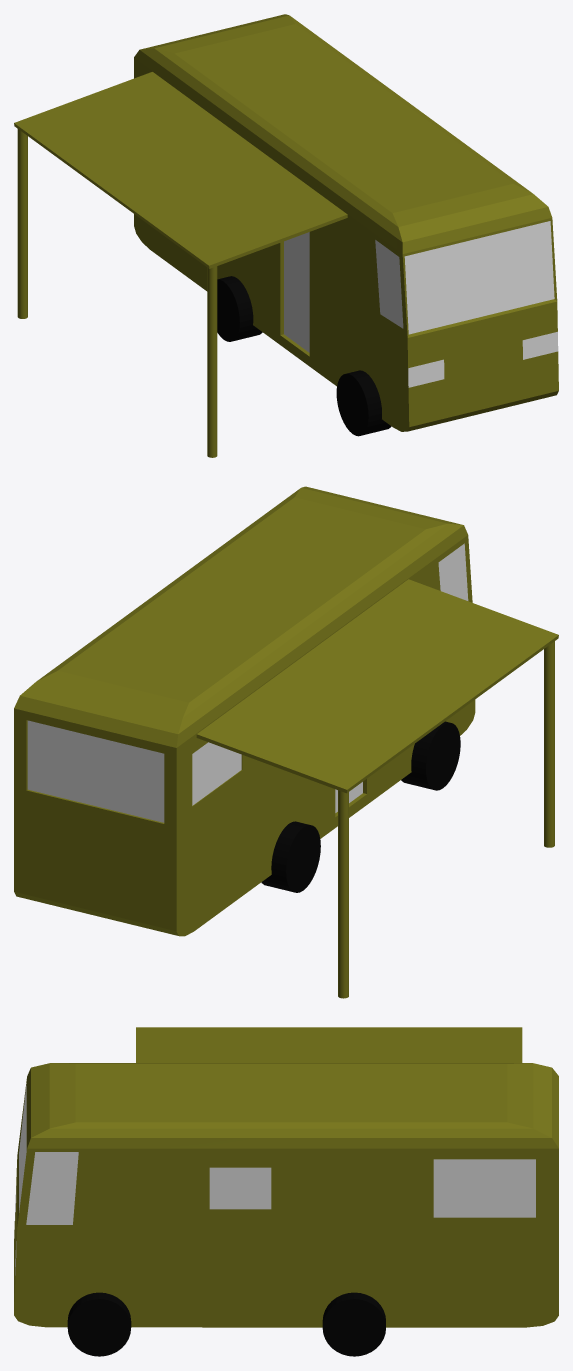
The model's file is motorhome 1.fbx.
The picture shows the model from 3 angles, top to bottom: view 1: azimuth 30°, elevation 25°; view 2: azimuth 150°, elevation 25°; view 3: azimuth 270°, elevation 25°; orthographic projection. The views are drawn at different scales.
Visible parts, largest first — view 1: Motorhome 1; view 2: Motorhome 1; view 3: Motorhome 1.
Boxes of the visible parts, x1=… form: Motorhome 1: x1=14, y1=14, x2=558, y2=457; Motorhome 1: x1=14, y1=486, x2=558, y2=998; Motorhome 1: x1=14, y1=1027, x2=558, y2=1356.
Bounding box in the file's own units: 565 × 413 × 892.
